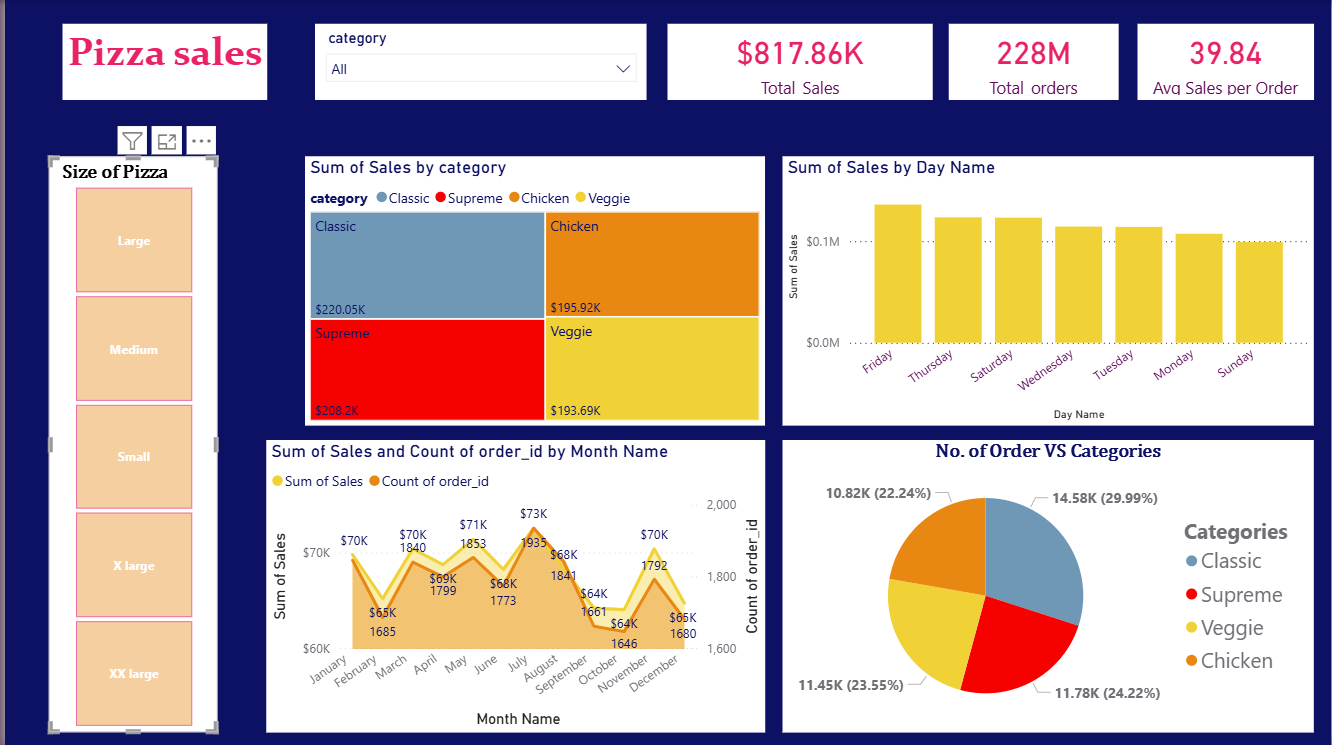

The page's visual inventory and layout, read from the dashboard file:
{"tool":"powerbi","page":{"name":"Page 1","canvas":[1280,720],"ordinal":0},"visuals":[{"type":"card","fields":{"Values":["Order.Total_orders"]},"box":[911.2,22.5,163.8,73.8],"z":0},{"type":"card","fields":{"Values":["Order details.Total_Sales"]},"box":[640,22.5,256.2,73.8],"z":1000},{"type":"areaChart","fields":{"Category":["Order.Month Name"],"Y":["Sum(Order details.Sales)"],"Y2":["CountNonNull(Order.order_id)"]},"box":[252.5,425,481.2,282.5],"z":2000},{"type":"columnChart","fields":{"Category":["Order.Day Name"],"Y":["Sum(Order details.Sales)"]},"box":[750,151.2,512.5,260],"z":3000},{"type":"slicer","fields":{"Values":["Pizza type.category"]},"box":[298.8,22.5,320,73.8],"z":4000},{"type":"pieChart","title":"No. of Order VS Categories","fields":{"Category":["Pizza type.category"],"Y":["CountNonNull(Order details.order_id)"]},"box":[750,425,512.5,282.5],"z":5000},{"type":"slicer","fields":{"Values":["Pizzas.Size"]},"box":[42.5,151.2,162.5,556.2],"z":6000},{"type":"treemap","fields":{"Group":["Pizza type.category"],"Values":["Sum(Order details.Sales)"]},"box":[290,151.2,443.8,260],"z":7000},{"type":"card","fields":{"Values":["Order details.Avg_amount_per_Order"]},"box":[1092.5,22.5,170,73.8],"z":8000},{"type":"textbox","box":[55,22.5,197.5,73.8],"z":9000}]}

Visuals, with their boxes in screenshot pixels (x1, y1, x2, y2), scaled from the page's 1280x720 canvas onto the 1332x745 screenshot:
card - Order.Total_orders: BBox(948, 23, 1119, 100)
card - Order details.Total_Sales: BBox(666, 23, 933, 100)
areaChart - Order.Month Name x Sum(Order details.Sales): BBox(263, 440, 764, 732)
columnChart - Order.Day Name x Sum(Order details.Sales): BBox(780, 156, 1314, 425)
slicer - Pizza type.category: BBox(311, 23, 644, 100)
"No. of Order VS Categories" pieChart: BBox(780, 440, 1314, 732)
slicer - Pizzas.Size: BBox(44, 156, 213, 732)
treemap - Pizza type.category x Sum(Order details.Sales): BBox(302, 156, 764, 425)
card - Order details.Avg_amount_per_Order: BBox(1137, 23, 1314, 100)
textbox: BBox(57, 23, 263, 100)
